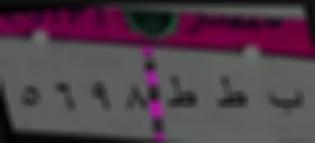5: (15, 80, 45, 111)
6: (54, 78, 78, 113)
8: (122, 83, 148, 117)
9: (90, 78, 113, 115)
Taa: (165, 70, 198, 112), (213, 75, 249, 111)
baa: (265, 80, 308, 123)
